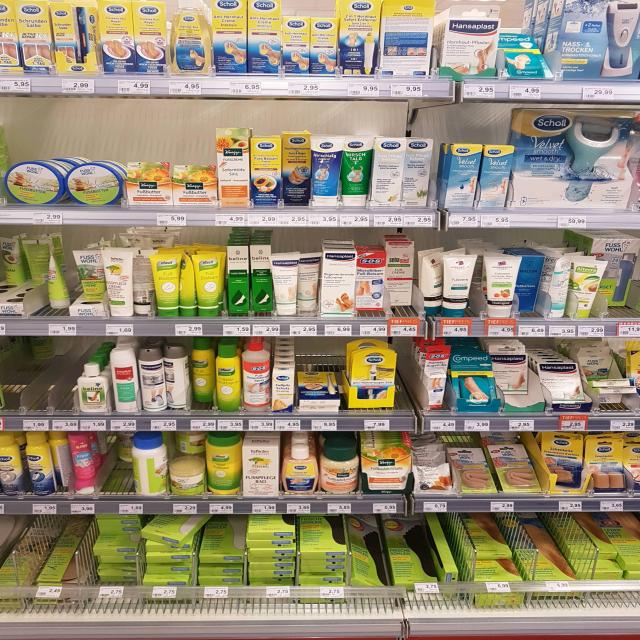empty: (48, 332, 76, 409)
